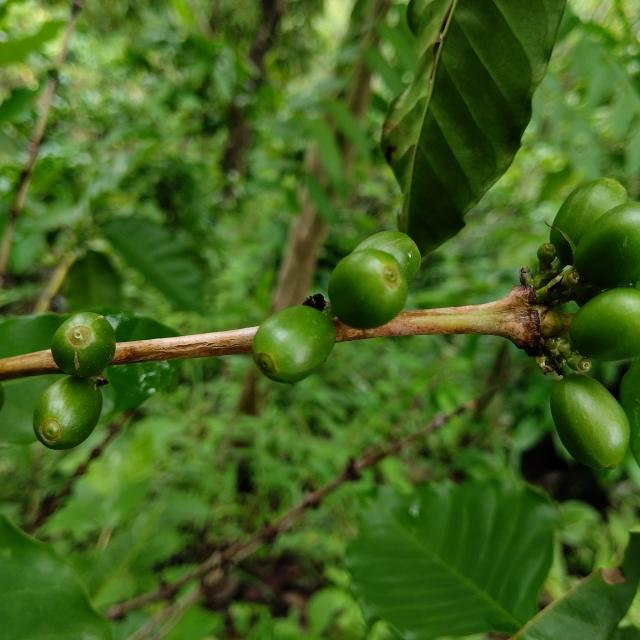green: (551, 374, 631, 470), (551, 374, 631, 470), (252, 306, 336, 384), (252, 306, 336, 384), (328, 249, 409, 329), (328, 249, 409, 329), (575, 202, 640, 288), (570, 287, 640, 361), (570, 287, 640, 361), (553, 178, 629, 246), (32, 376, 101, 450), (50, 312, 115, 378), (353, 231, 422, 285), (353, 231, 422, 285), (551, 229, 574, 265), (551, 229, 574, 265), (551, 229, 574, 265)
